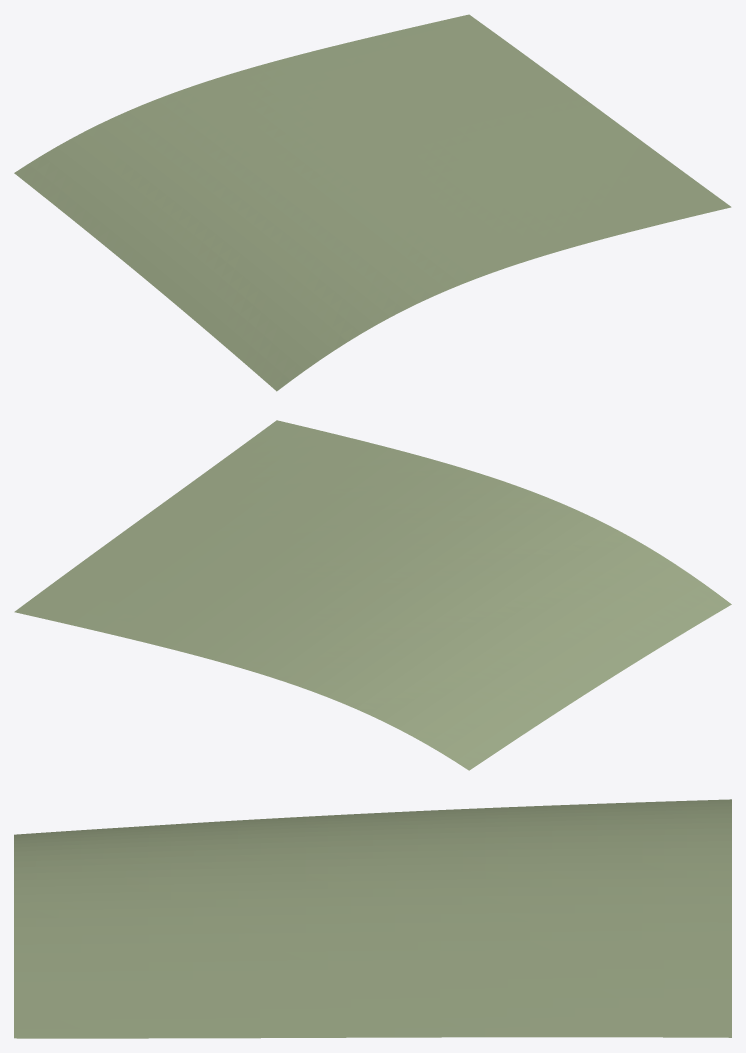
Rendered from expanse-14-26.glb.
3 renders of one model, top to bottom at view 1: azimuth 30°, elevation 25°; view 2: azimuth 150°, elevation 25°; view 3: azimuth 270°, elevation 25°, orthographic. The views are drawn at different scales.
Parts seen in each view (by area): view 1: expanse-14-26; view 2: expanse-14-26; view 3: expanse-14-26.
Boxes of the visible parts, x1,y1,x2,y2 form: expanse-14-26: (14, 14, 731, 391); expanse-14-26: (14, 420, 731, 770); expanse-14-26: (14, 799, 731, 1038).
Size of the model in its own units: 256 by 40.55 by 256.
